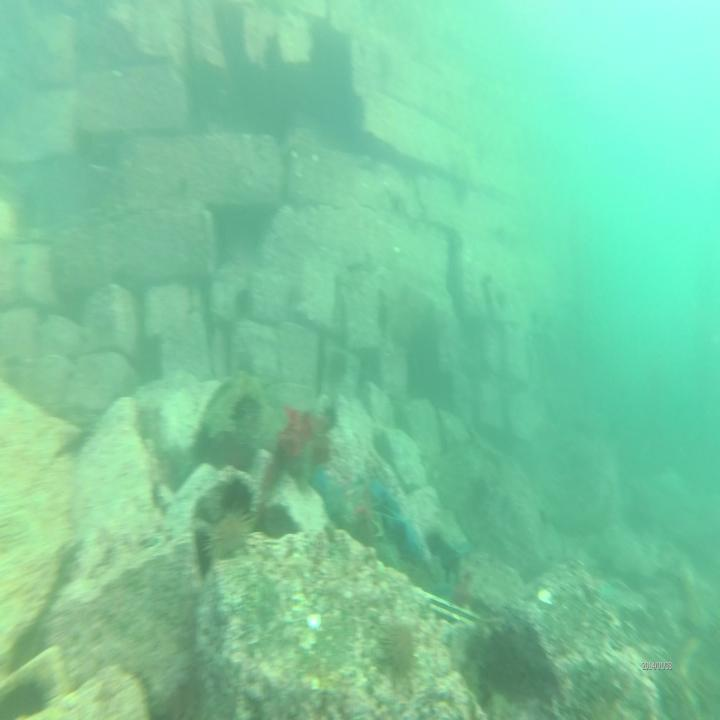echinus: (203, 507, 258, 564), (377, 623, 419, 682), (326, 344, 352, 392), (234, 283, 256, 322), (376, 294, 390, 342), (495, 281, 509, 311)
